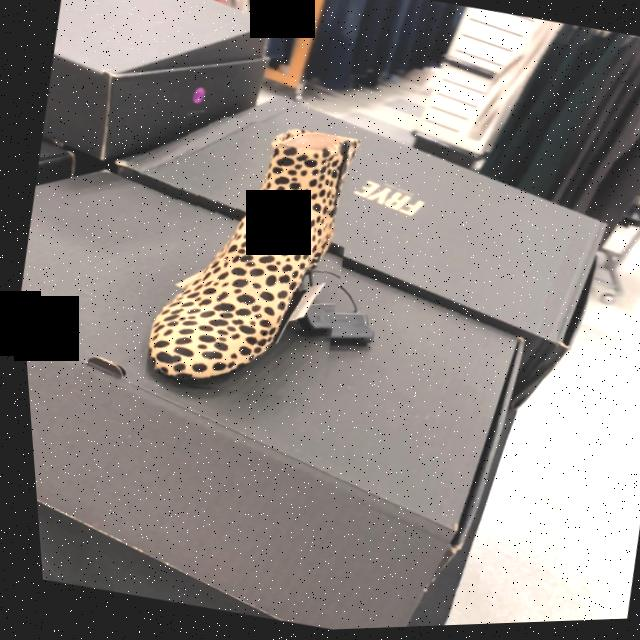shoe: (142, 131, 357, 387)
